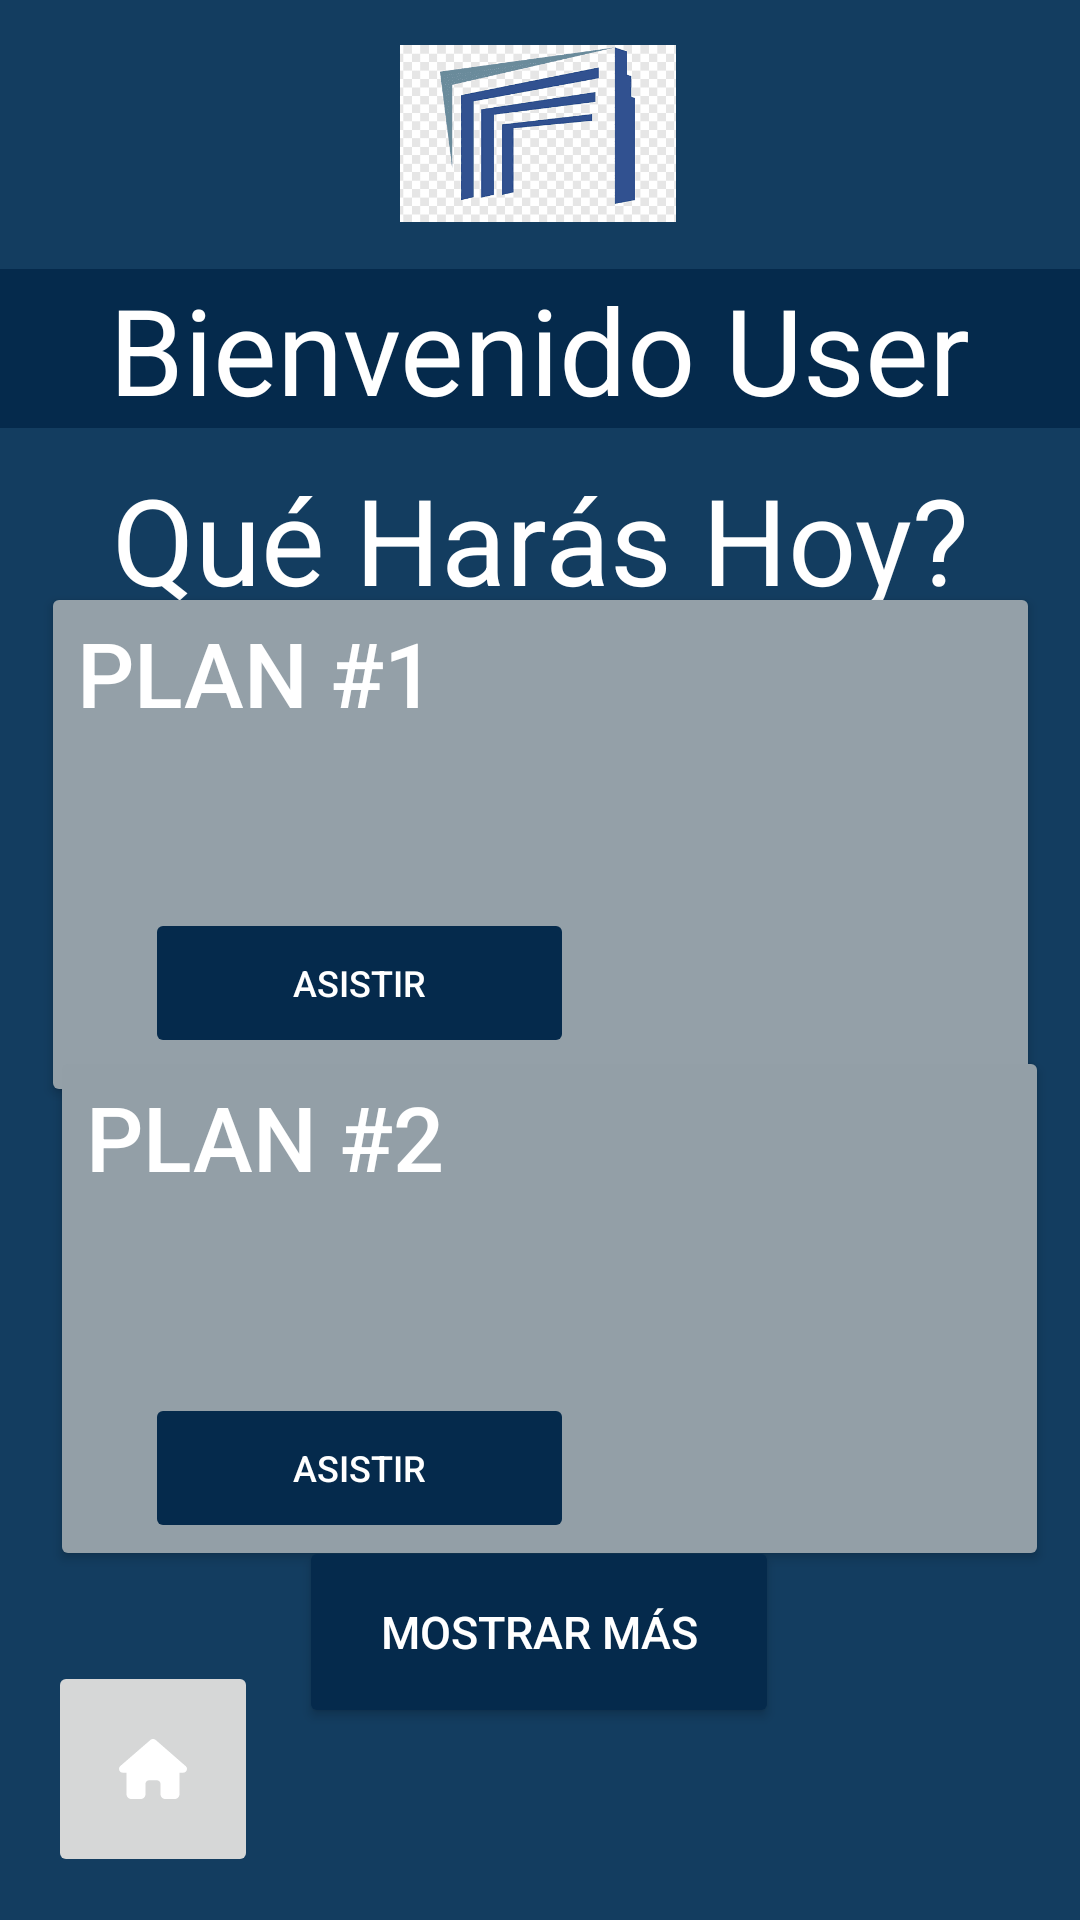

Where to tap for icons on this 1080 x 1920 app screen, as point (x, y):
house: point (153, 1769)
